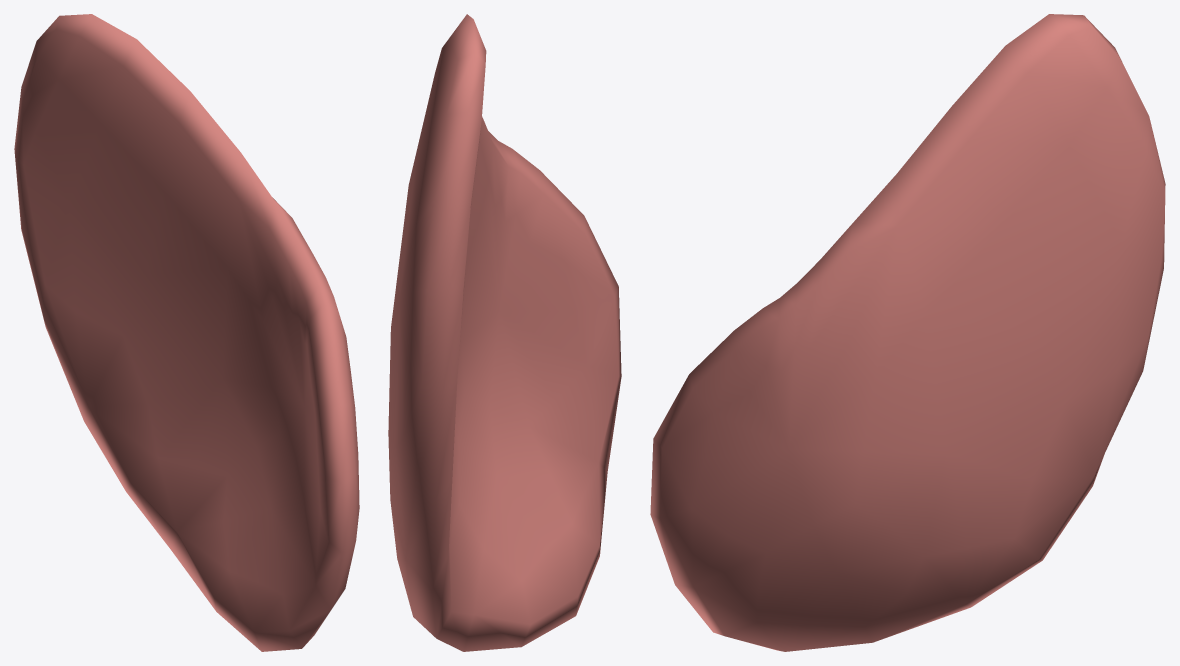
3 renders of one model, left to right at view 1: azimuth 30°, elevation 25°; view 2: azimuth 150°, elevation 25°; view 3: azimuth 270°, elevation 25°, orthographic. The views are drawn at different scales.
Visible parts, largest first — view 1: ZA_e4c86aa62c989a21; view 2: ZA_e4c86aa62c989a21; view 3: ZA_e4c86aa62c989a21.
Boxes of the visible parts, left/top/right/bottom form: ZA_e4c86aa62c989a21: left=14, top=14, right=359, bottom=651; ZA_e4c86aa62c989a21: left=388, top=14, right=621, bottom=651; ZA_e4c86aa62c989a21: left=650, top=14, right=1165, bottom=651.
Size of the model in its own units: 0.00219 by 0.00694 by 0.0053.
